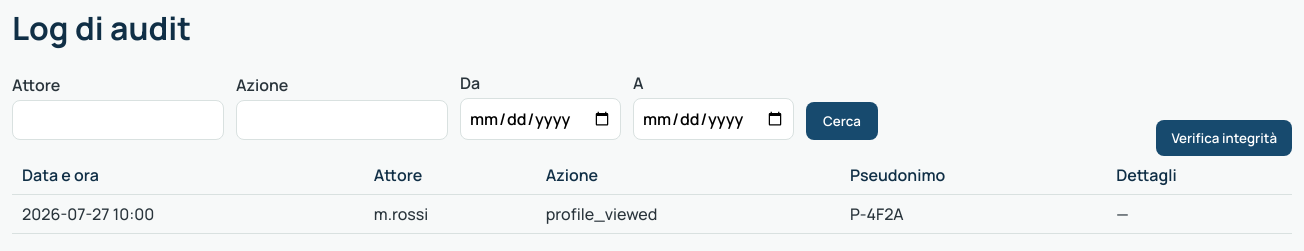
Test: «Verifica integrità»: green badge on an intact chain
expect the text "profile_viewed" is shown: met, box [536,194,840,233]
Click the button "Verifica integrità": (1224, 138) [1156,120,1292,156]
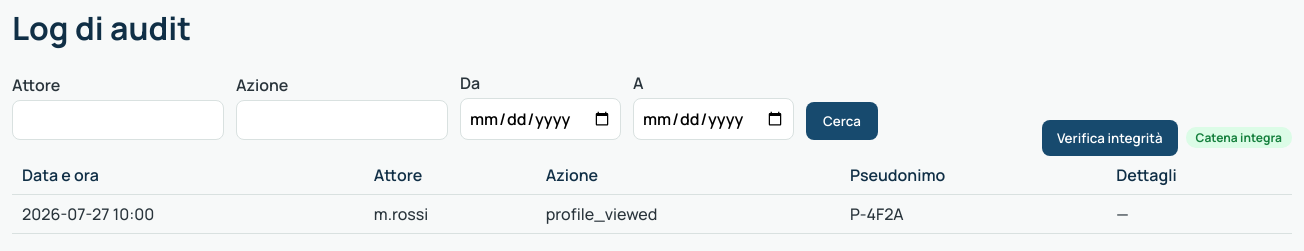
expect the text "Catena integra" is shown: met, box [1186,127,1292,148]
